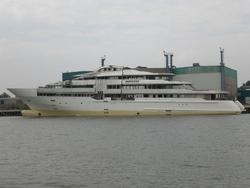yacht: (3, 50, 245, 114)
